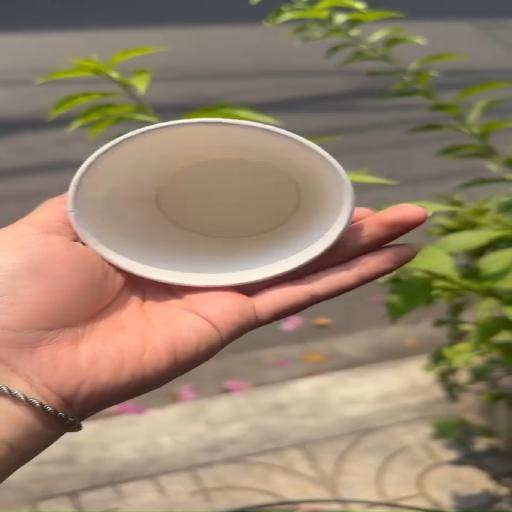ly_giay: (67, 118, 353, 287)
